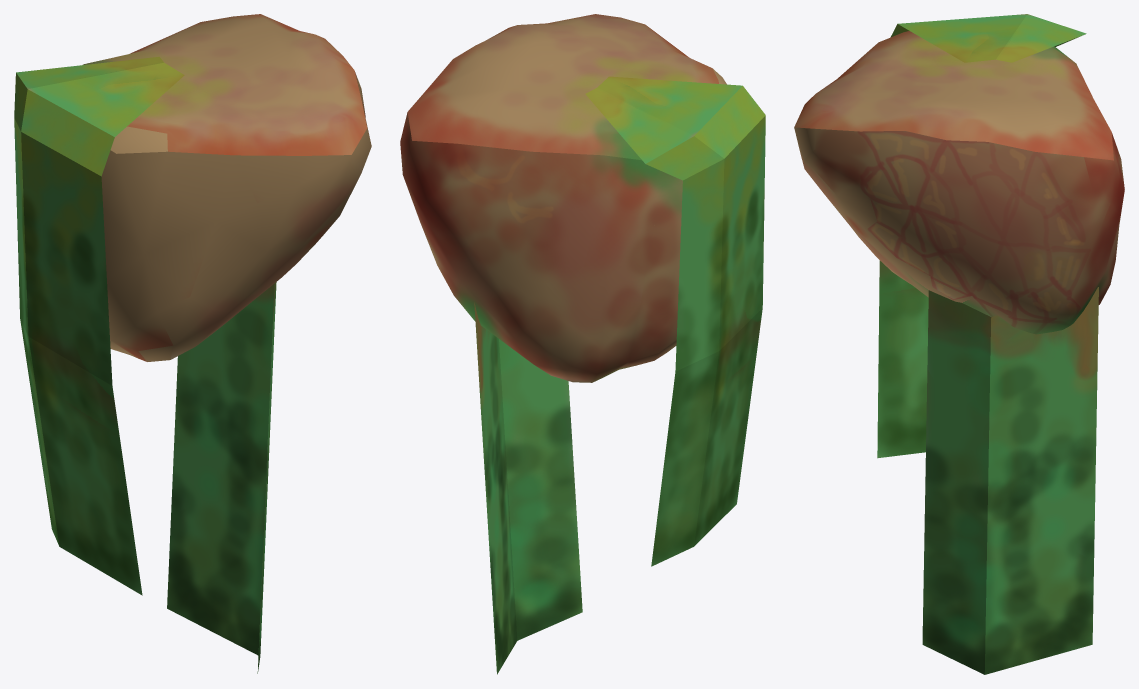
Rendered from Rock_with_vines.fbx.
3 renders of one model, left to right at view 1: azimuth 30°, elevation 25°; view 2: azimuth 150°, elevation 25°; view 3: azimuth 270°, elevation 25°, orthographic. The views are drawn at different scales.
Visible parts, largest first — view 1: Rock_with_vines_003; view 2: Rock_with_vines_003; view 3: Rock_with_vines_003.
Boxes of the visible parts, bbox=[...] form: Rock_with_vines_003: bbox=[14, 14, 371, 673]; Rock_with_vines_003: bbox=[400, 14, 765, 674]; Rock_with_vines_003: bbox=[794, 14, 1124, 674].
Bounding box in the file's own units: 307 × 599 × 310.
